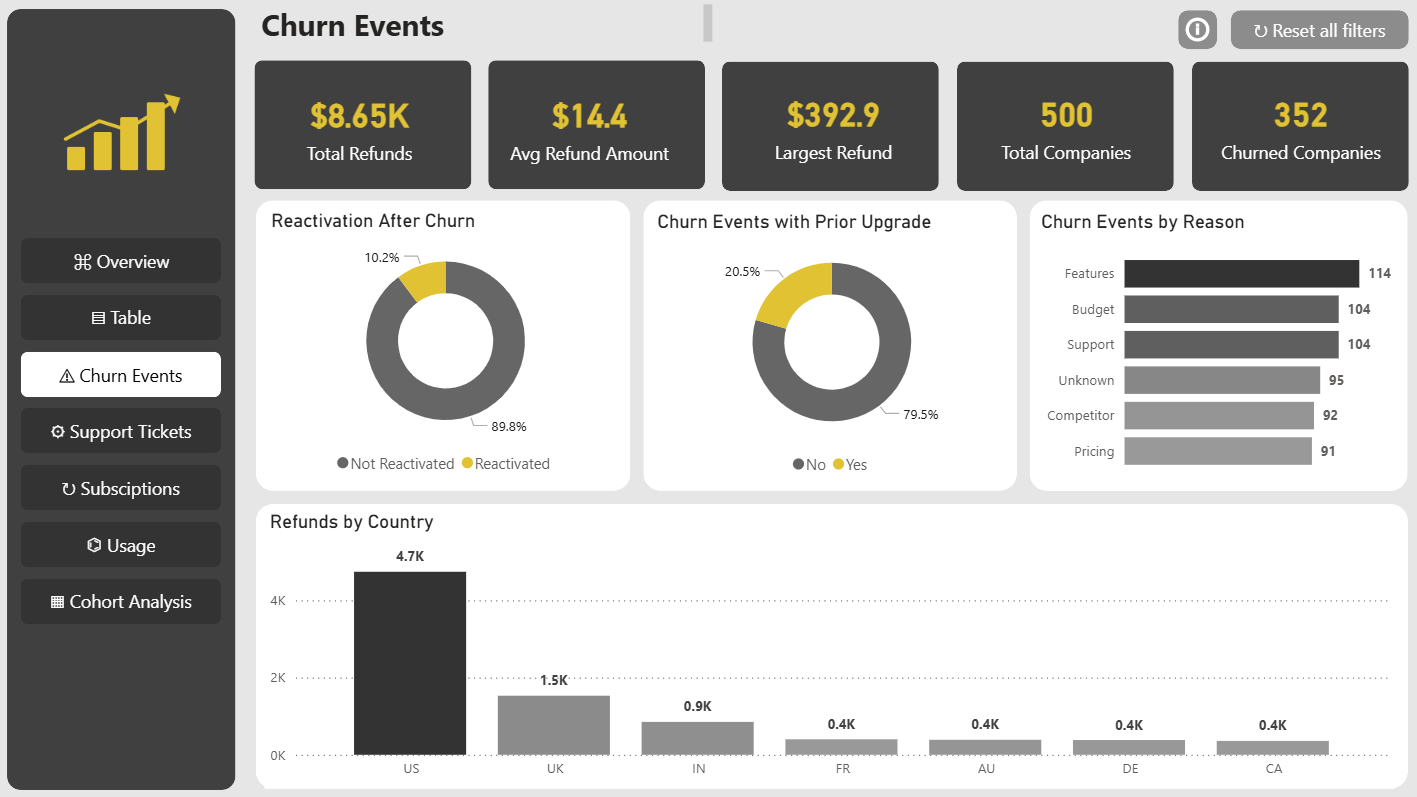

What the dashboard file says about the page in this screenshot:
{"tool":"powerbi","page":{"name":"⚠ Churn Events","canvas":[1280,720],"ordinal":2},"visuals":[{"type":"image","box":[0,0,1278.3,720],"z":0},{"type":"shape","box":[854.3,47.1,212.9,134.3],"z":1000},{"type":"shape","box":[642.9,47.1,212.9,134.3],"z":2000},{"type":"shape","box":[232.5,181.2,337,261.2],"z":3000},{"type":"shape","box":[1065.7,47.1,212.9,134.3],"z":4000},{"type":"shape","box":[928.6,181.4,340,261.4],"z":5000},{"type":"shape","box":[232.9,454.3,1035.7,255.7],"z":6000},{"type":"shape","box":[222.9,45.7,213,134],"z":7000},{"type":"shape","box":[432.9,45.7,212.9,134],"z":8000},{"type":"card","fields":{"Values":["CountNonNull(public accounts.account_id)"]},"box":[866.2,50,190,125],"z":9000},{"type":"card","fields":{"Values":["Avg(public churn_events.refund_amount_usd)"]},"box":[423.8,55,218.8,118.8],"z":10000},{"type":"card","fields":{"Values":["Sum(public churn_events.refund_amount_usd)"]},"box":[223.8,52.5,205,122.5],"z":11000},{"type":"textbox","box":[232.9,0,415.7,44.3],"z":12000},{"type":"actionButton","box":[1062,10,35,35],"z":13000},{"type":"actionButton","title":"d","box":[1108.8,10,160,35],"z":14000},{"type":"card","fields":{"Values":["Count(public churn_events.account_id)"]},"box":[1068.8,53.8,207.5,118.8],"z":15000},{"type":"card","fields":{"Values":["Max(public churn_events.refund_amount_usd)"]},"box":[648.8,52.5,207.5,120],"z":16000},{"type":"shape","title":"Special image","box":[1000,495,12.5,12.5],"z":17000},{"type":"barChart","title":"Churn Events by Reason","fields":{"Category":["public churn_events.reason_code"],"Y":["CountNonNull(public churn_events.churn_event_id)"]},"box":[933.8,190,328.8,247.5],"z":18000},{"type":"lineStackedColumnComboChart","title":"Refunds by Country","fields":{"Category":["public accounts.country"],"Y":["Sum(public churn_events.refund_amount_usd)"]},"box":[240,460,1016.2,250],"z":19000},{"type":"donutChart","title":"Reactivation After Churn","fields":{"Y":["CountNonNull(public churn_events.churn_event_id)"],"Category":["public churn_events.is_reactivation"]},"box":[241.2,188.8,323.8,247.5],"z":20000},{"type":"shape","box":[581.2,181.2,336,261.2],"z":21000},{"type":"donutChart","title":"Churn Events with Prior Upgrade","fields":{"Y":["CountNonNull(public churn_events.churn_event_id)"],"Category":["public churn_events.preceding_upgrade_flag"]},"box":[588.8,190,323.8,247.5],"z":22000},{"type":"shape","box":[0,0,223.3,720],"z":23000},{"type":"pageNavigator","box":[21.2,215,180,350],"z":24000},{"type":"image","box":[0,74,238,110],"z":25000}]}

Visuals, with their boxes in screenshot pixels (x1, y1, x2, y2), scaled from the page's 1280x720 canvas onto the 1417x797 screenshot:
image: (0, 0, 1415, 796)
shape: (946, 52, 1181, 201)
shape: (712, 52, 947, 201)
shape: (257, 201, 630, 490)
shape: (1180, 52, 1415, 201)
shape: (1028, 201, 1404, 490)
shape: (258, 503, 1404, 786)
shape: (247, 51, 483, 199)
shape: (479, 51, 715, 199)
card - CountNonNull(public accounts.account_id): (959, 55, 1169, 194)
card - Avg(public churn_events.refund_amount_usd): (469, 61, 711, 192)
card - Sum(public churn_events.refund_amount_usd): (248, 58, 475, 194)
textbox: (258, 0, 718, 49)
actionButton: (1176, 11, 1214, 50)
"d" actionButton: (1227, 11, 1405, 50)
card - Count(public churn_events.account_id): (1183, 60, 1413, 191)
card - Max(public churn_events.refund_amount_usd): (718, 58, 948, 191)
"Special image" shape: (1107, 548, 1121, 562)
"Churn Events by Reason" barChart: (1034, 210, 1398, 484)
"Refunds by Country" lineStackedColumnComboChart: (266, 509, 1391, 786)
"Reactivation After Churn" donutChart: (267, 209, 625, 483)
shape: (643, 201, 1015, 490)
"Churn Events with Prior Upgrade" donutChart: (652, 210, 1010, 484)
shape: (0, 0, 247, 796)
pageNavigator: (23, 238, 223, 625)
image: (0, 82, 263, 204)
